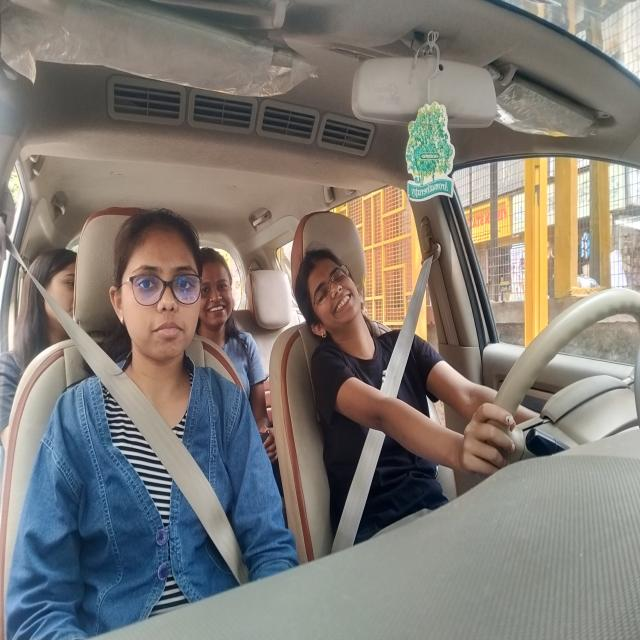drowsy: (288, 247, 367, 344)
person: (109, 206, 206, 360), (18, 243, 85, 353), (201, 246, 237, 332)
